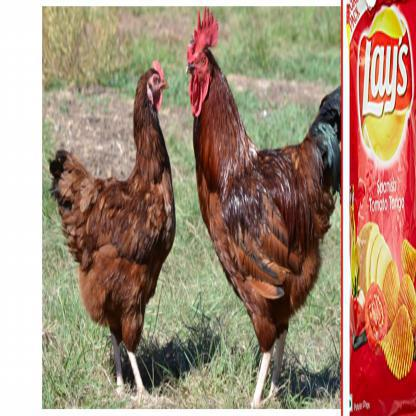tangy_tomato: (344, 0, 415, 415)
